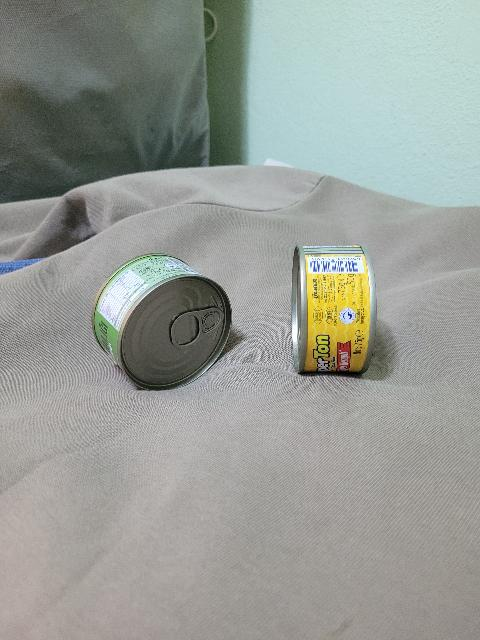Metal: (90, 256, 236, 388), (293, 236, 382, 378)
